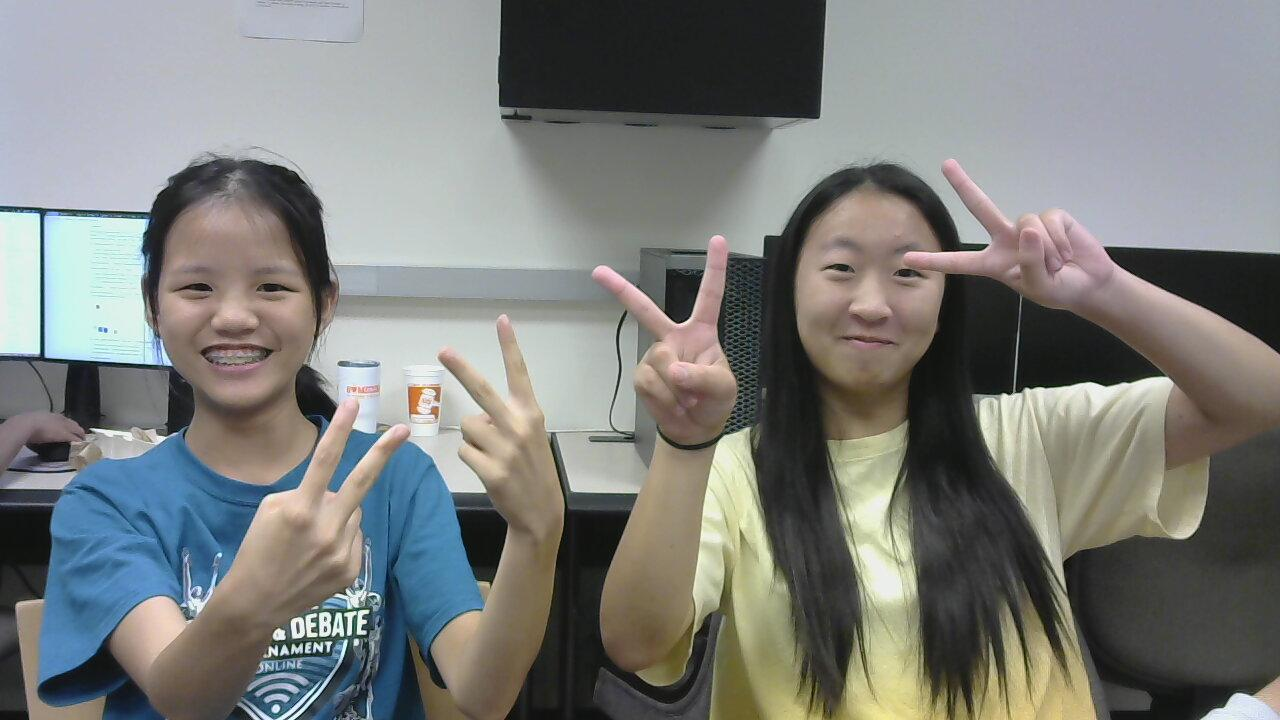peace: (233, 382, 421, 628), (895, 138, 1126, 321), (575, 227, 753, 445), (433, 305, 572, 544)
